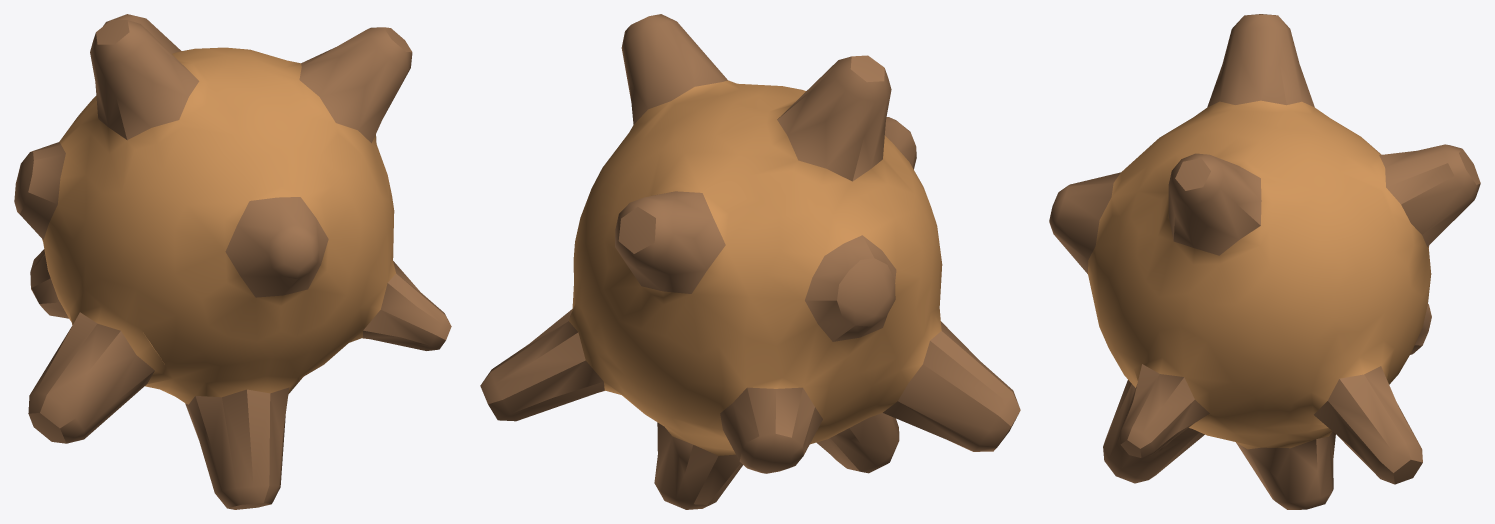
File: Planet_5.glb
3 renders of one model, left to right at view 1: azimuth 30°, elevation 25°; view 2: azimuth 150°, elevation 25°; view 3: azimuth 270°, elevation 25°, orthographic. The views are drawn at different scales.
Parts seen in each view (by area): view 1: Planet_5; view 2: Planet_5; view 3: Planet_5.
Part boxes in pixels (<box>): Planet_5: <box>14,14,451,509</box>; Planet_5: <box>480,14,1020,509</box>; Planet_5: <box>1049,14,1480,509</box>.
Size of the model in its own units: 4.23 by 4.52 by 4.03.
1 material, 1 textured.
